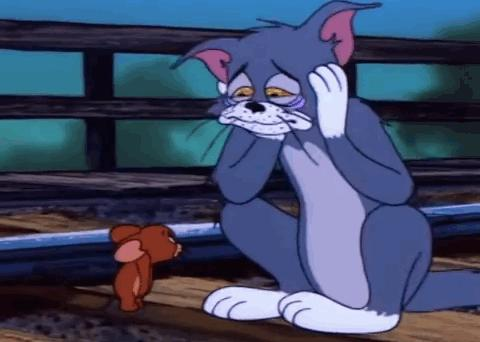jerry: (99, 221, 185, 313)
